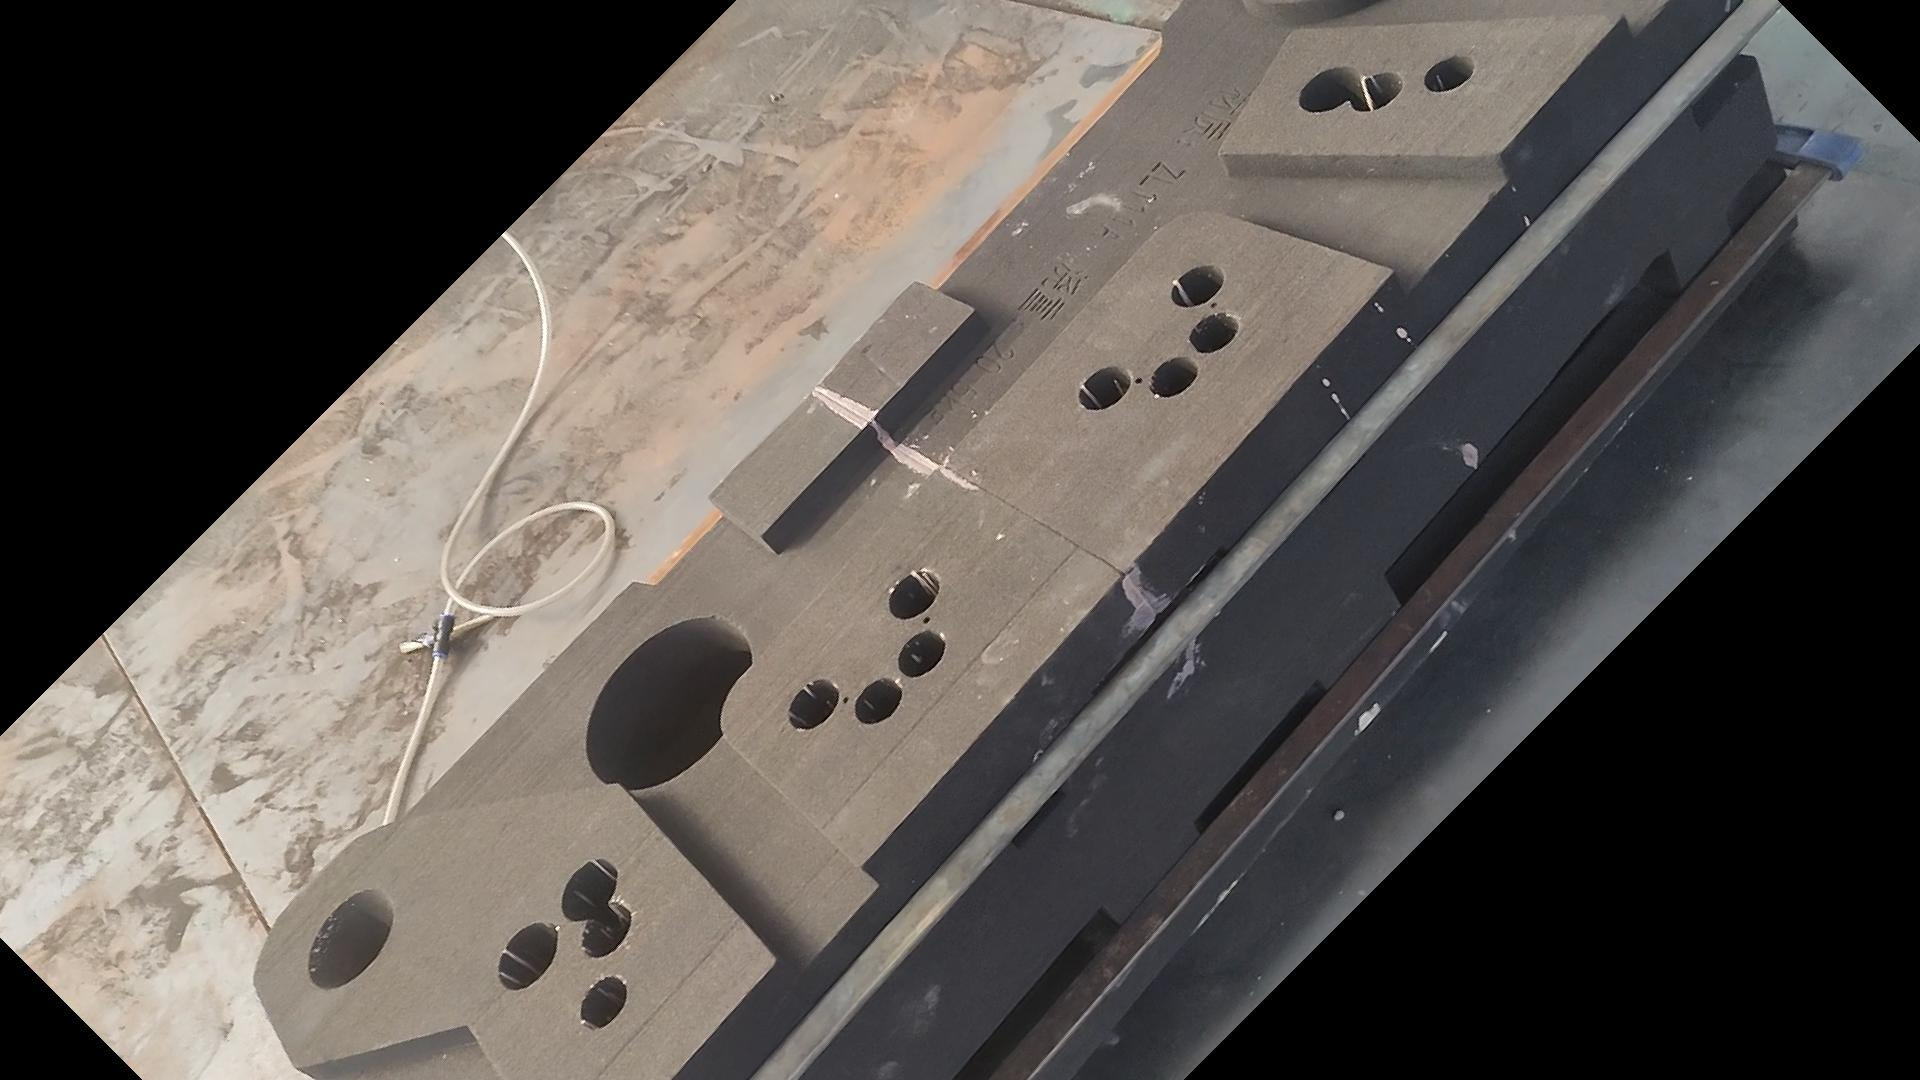pouring hole: (305, 885, 396, 989)
